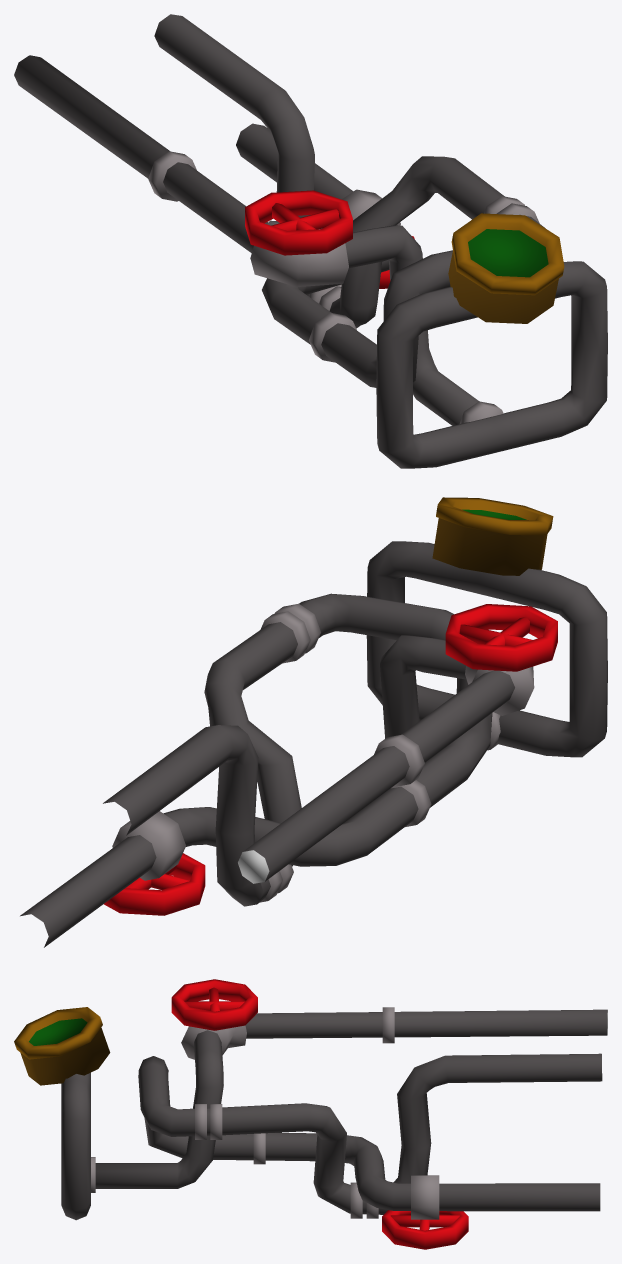
Rendered from Waterpipes.gltf.
3 views of the same model, one above another, from view 1: azimuth 30°, elevation 25°; view 2: azimuth 150°, elevation 25°; view 3: azimuth 270°, elevation 25° (orthographic). The views are drawn at different scales.
Visible parts, largest first — view 1: Waterpipe_input_output; view 2: Waterpipe_input_output; view 3: Waterpipe_input_output.
Part boxes in pixels (bbox=[...]): Waterpipe_input_output: bbox=[14, 14, 607, 468]; Waterpipe_input_output: bbox=[20, 497, 607, 947]; Waterpipe_input_output: bbox=[14, 979, 607, 1249].
Bounding box in the file's own units: 802 × 635 × 1781.
